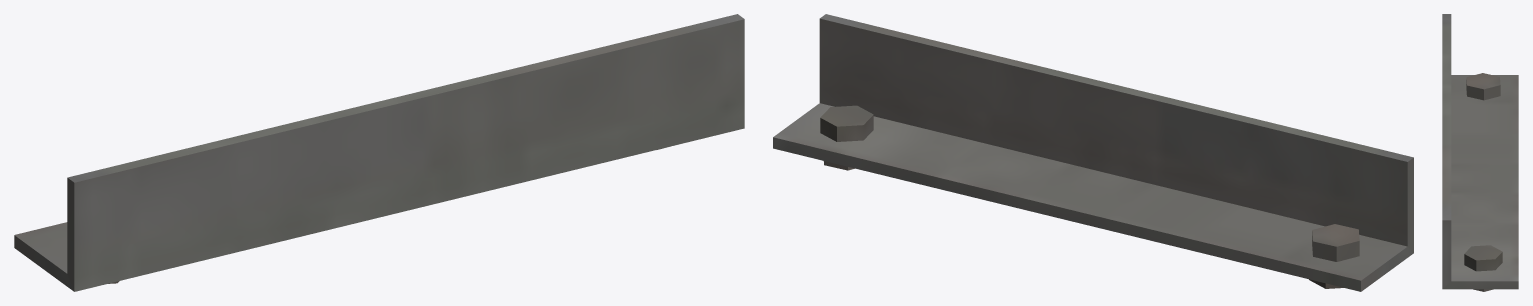
Rendered from circular_brace_extention.gltf.
3 renders of one model, left to right at view 1: azimuth 30°, elevation 25°; view 2: azimuth 150°, elevation 25°; view 3: azimuth 270°, elevation 25°, orthographic. The views are drawn at different scales.
Visible parts, largest first — view 1: circular_brace_extention; view 2: circular_brace_extention; view 3: circular_brace_extention.
Boxes of the visible parts, box(x1,y1,x2,y2) form: circular_brace_extention: box(14, 14, 744, 291); circular_brace_extention: box(773, 14, 1413, 291); circular_brace_extention: box(1442, 14, 1518, 291).
Bounding box in the file's own units: 0.2484 × 0.0453 × 0.0387.
Materials: 1 (1 with a texture image).
